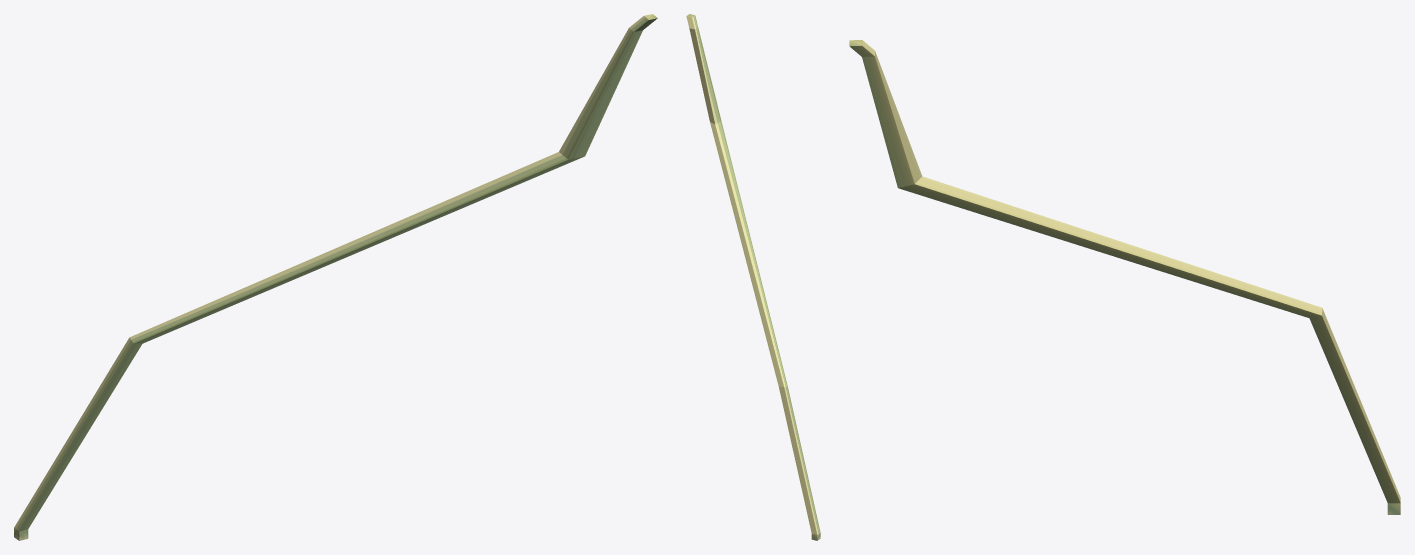
Rendered from Island_1_SlimTree_2.gltf.
3 views of the same model, side by side, from view 1: azimuth 30°, elevation 25°; view 2: azimuth 150°, elevation 25°; view 3: azimuth 270°, elevation 25° (orthographic). The views are drawn at different scales.
Visible parts, largest first — view 1: Island_1_SlimTree_2; view 2: Island_1_SlimTree_2; view 3: Island_1_SlimTree_2.
Part boxes in pixels (x1=…): Island_1_SlimTree_2: x1=14, y1=14, x2=657, y2=540; Island_1_SlimTree_2: x1=686, y1=14, x2=820, y2=540; Island_1_SlimTree_2: x1=849, y1=40, x2=1400, y2=514.
Size of the model in its own units: 3.03 by 3.95 by 2.73.
Materials: 1 (1 with a texture image).
